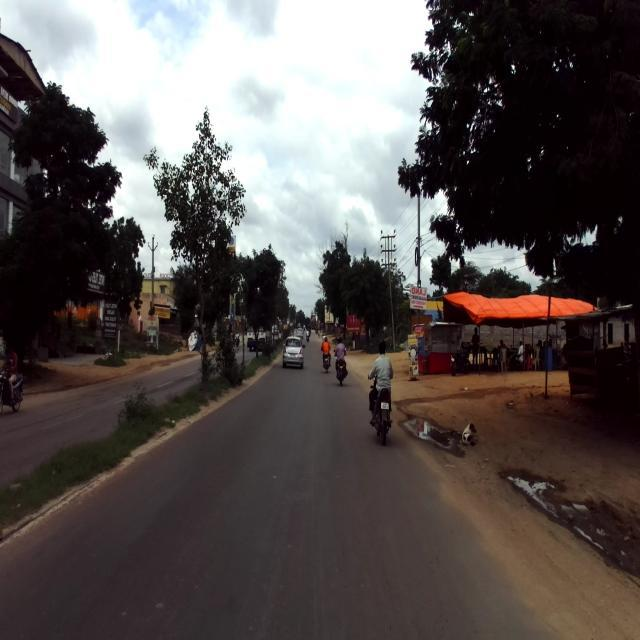pothole: (407, 406, 478, 476), (504, 474, 574, 538), (578, 500, 633, 568)
